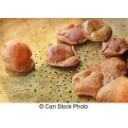poori: (72, 71, 113, 101), (5, 40, 37, 74), (97, 77, 128, 103), (47, 43, 79, 66), (82, 19, 113, 40), (57, 24, 86, 44), (102, 36, 128, 56)
